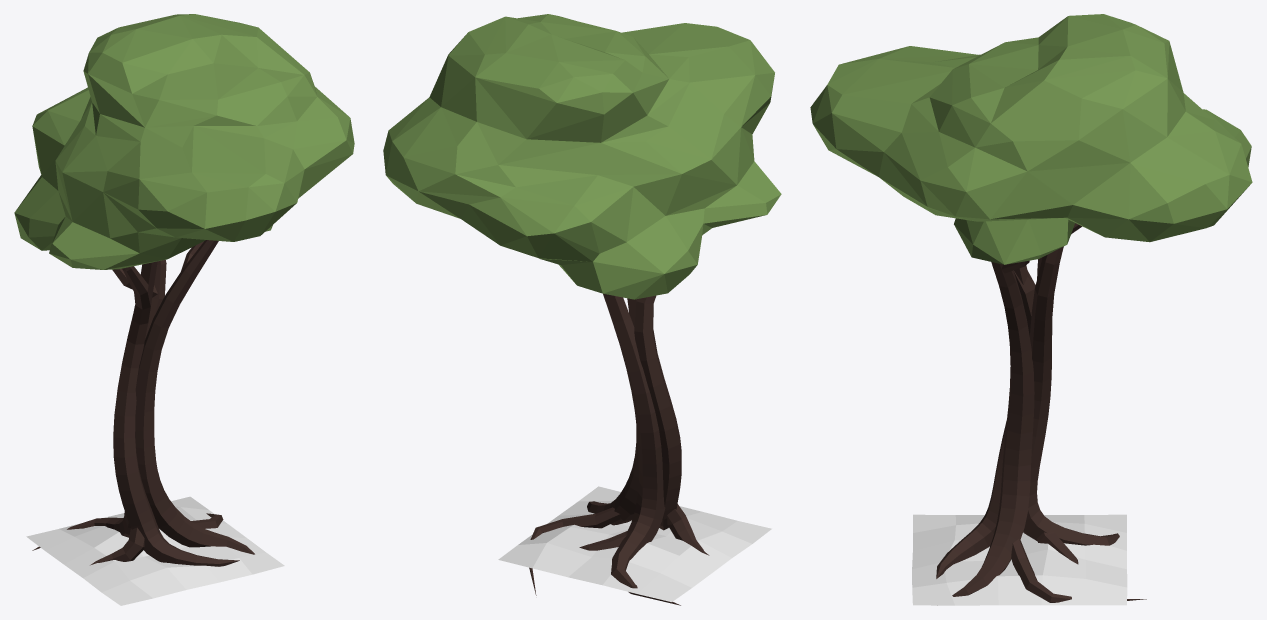
The model's file is Oak_Twisted.fbx.
The picture shows the model from 3 angles, left to right: view 1: azimuth 30°, elevation 25°; view 2: azimuth 150°, elevation 25°; view 3: azimuth 270°, elevation 25°; orthographic projection. The views are drawn at different scales.
Parts seen in each view (by area): view 1: Leaves, Ground_Reference, Trunk01, Trunk02, Trunk03; view 2: Leaves, Ground_Reference, Trunk03, Trunk01, Trunk02; view 3: Leaves, Ground_Reference, Trunk02, Trunk03, Trunk01.
Boxes of the visible parts, x1,y1,x2,y2 form: Leaves: (14, 14, 354, 269); Ground_Reference: (26, 496, 284, 605); Trunk01: (90, 261, 239, 566); Trunk02: (135, 240, 254, 554); Trunk03: (32, 260, 166, 550); Leaves: (383, 14, 781, 299); Ground_Reference: (498, 486, 771, 601); Trunk03: (579, 293, 680, 605); Trunk01: (634, 295, 709, 555); Trunk02: (529, 298, 639, 595); Leaves: (810, 14, 1252, 264); Ground_Reference: (912, 514, 1127, 605); Trunk02: (952, 260, 1146, 602); Trunk03: (1023, 223, 1119, 564); Trunk01: (936, 265, 1035, 578).
Bounding box in the file's own units: 710 × 1165 × 826.
